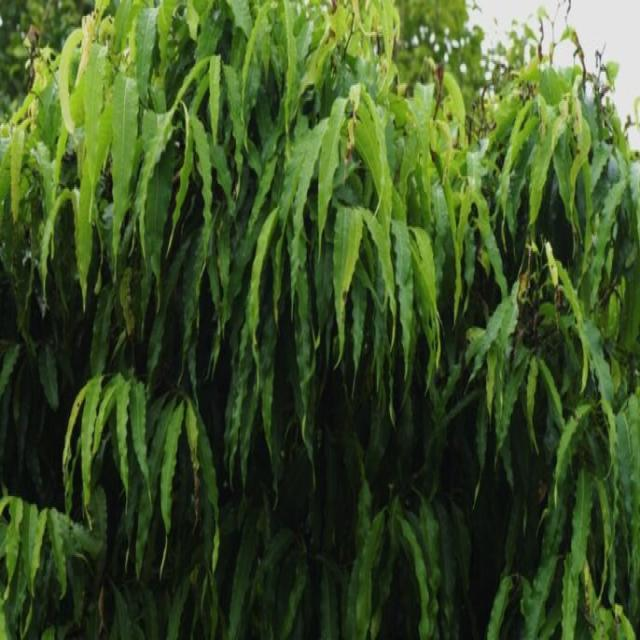Ashoka: (167, 9, 483, 402), (278, 326, 640, 640), (364, 55, 640, 437), (26, 321, 323, 640), (15, 23, 255, 344)
